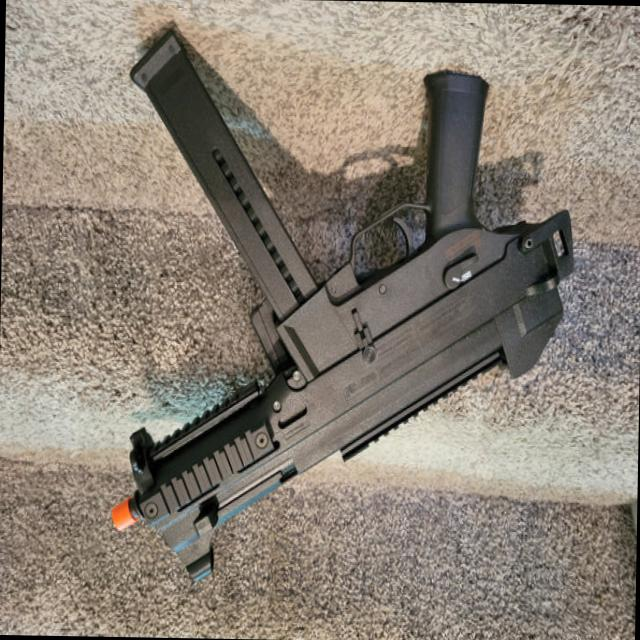Gun: (46, 27, 586, 628)
